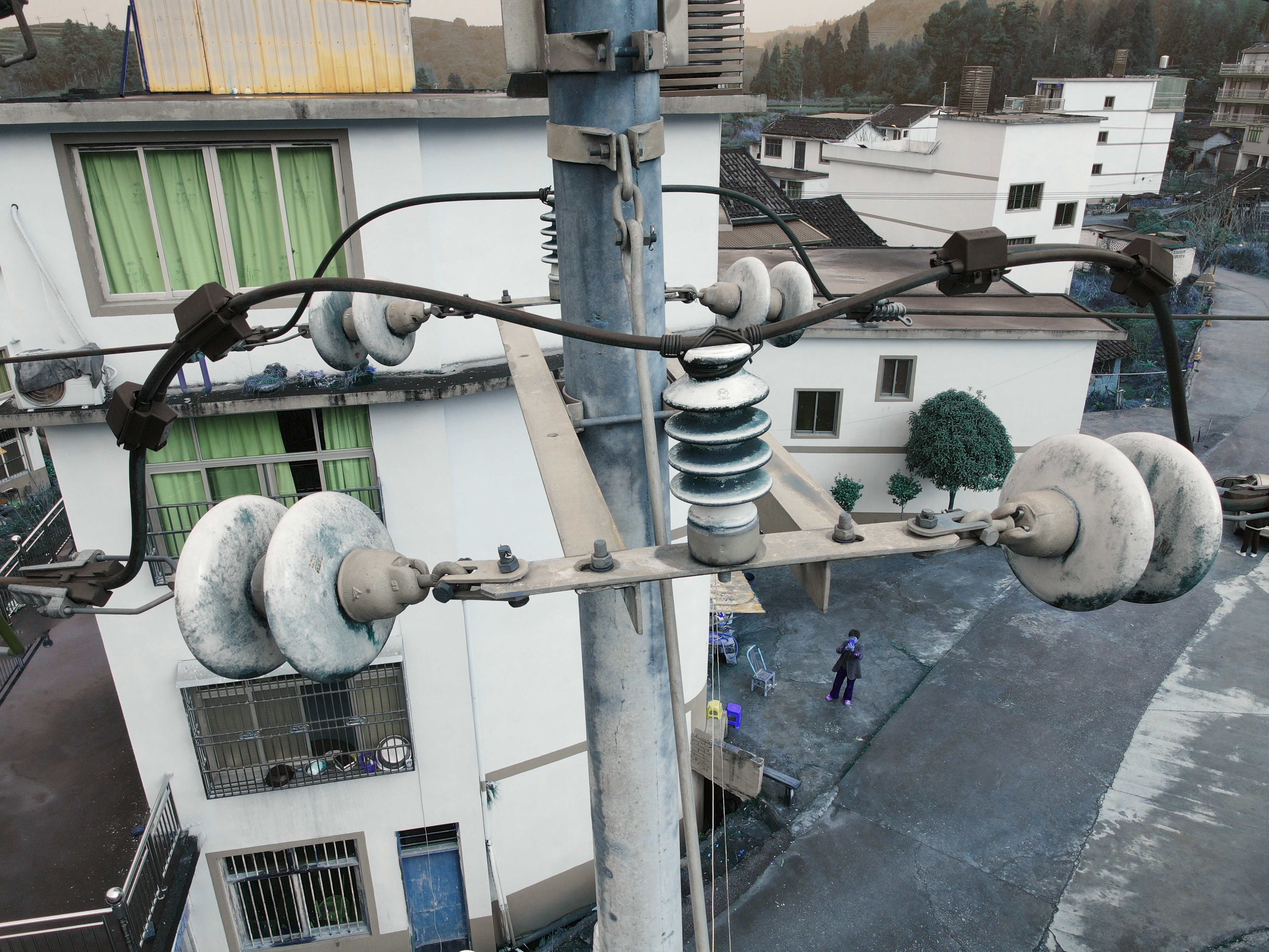severe_soiling_no_discharge_whole: (172, 487, 439, 682), (988, 431, 1228, 612), (659, 331, 780, 563), (310, 297, 427, 370), (703, 254, 819, 320)
